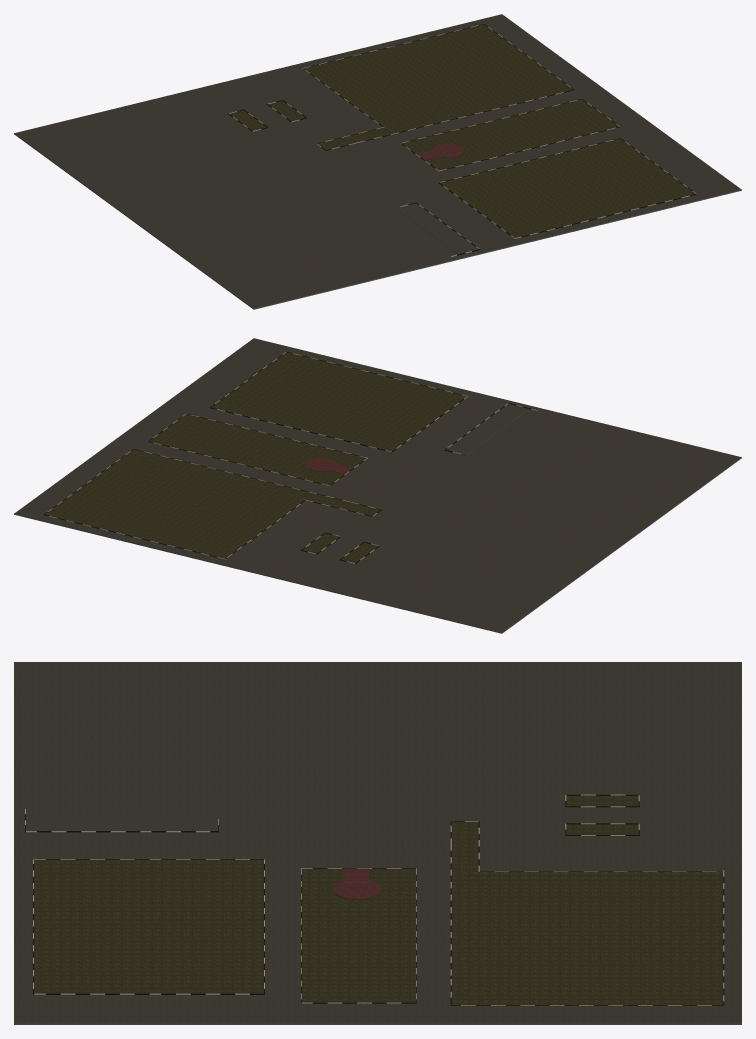
3 views of the same model, one above another, from view 1: azimuth 30°, elevation 25°; view 2: azimuth 150°, elevation 25°; view 3: azimuth 270°, elevation 25° (orthographic). The views are drawn at different scales.
Parts seen in each view (by area): view 1: Base_StaticMeshComponent0; view 2: Base_StaticMeshComponent0; view 3: Base_StaticMeshComponent0.
Part boxes in pixels (x1,y1,x2,y2): Base_StaticMeshComponent0: (14, 14, 741, 309); Base_StaticMeshComponent0: (14, 338, 741, 633); Base_StaticMeshComponent0: (14, 662, 741, 1024).
Size of the model in its own units: 255 by 1.33 by 217.
6 materials, 6 textured.
